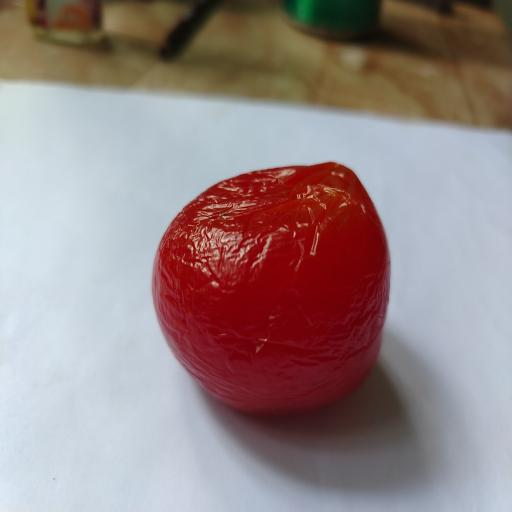spoiled: (153, 162, 390, 413)
